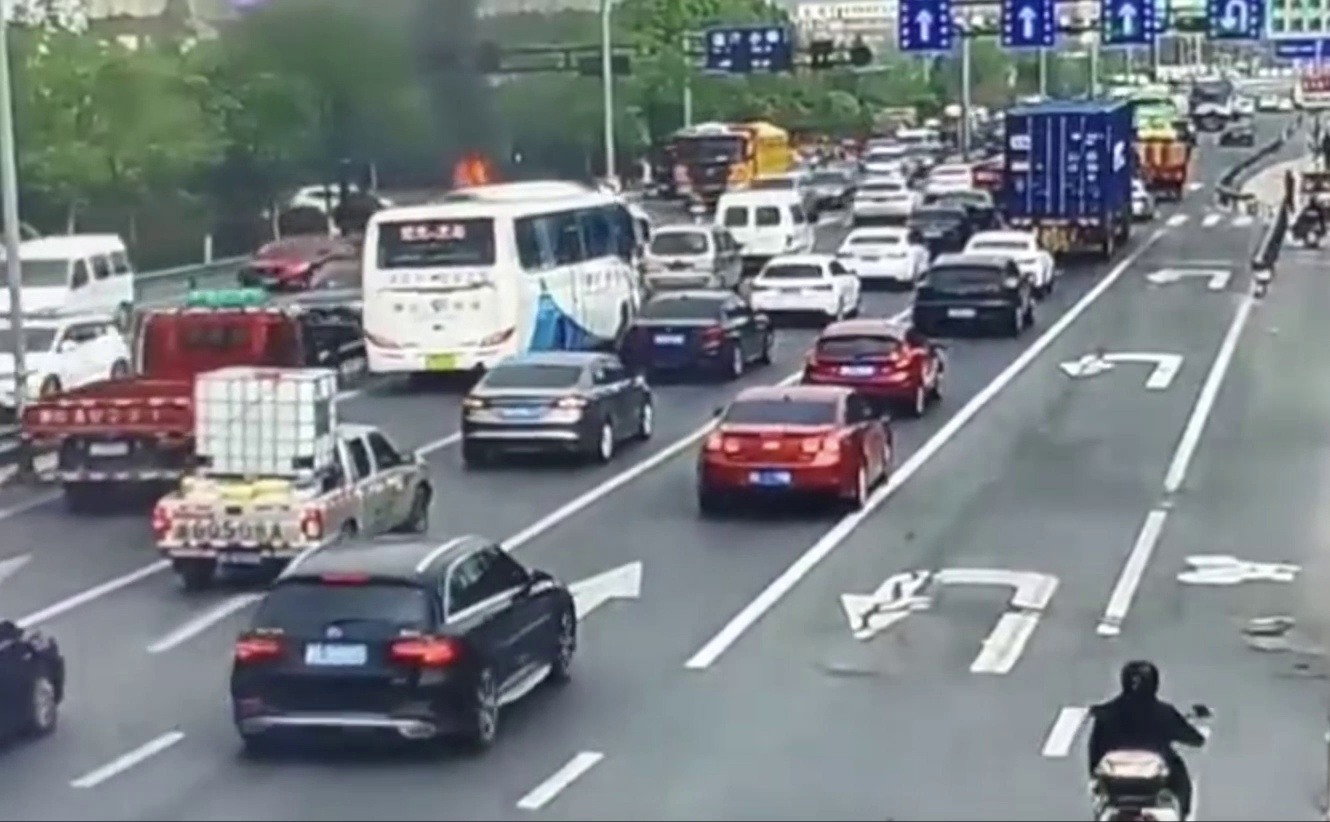smoke: (370, 22, 526, 170)
